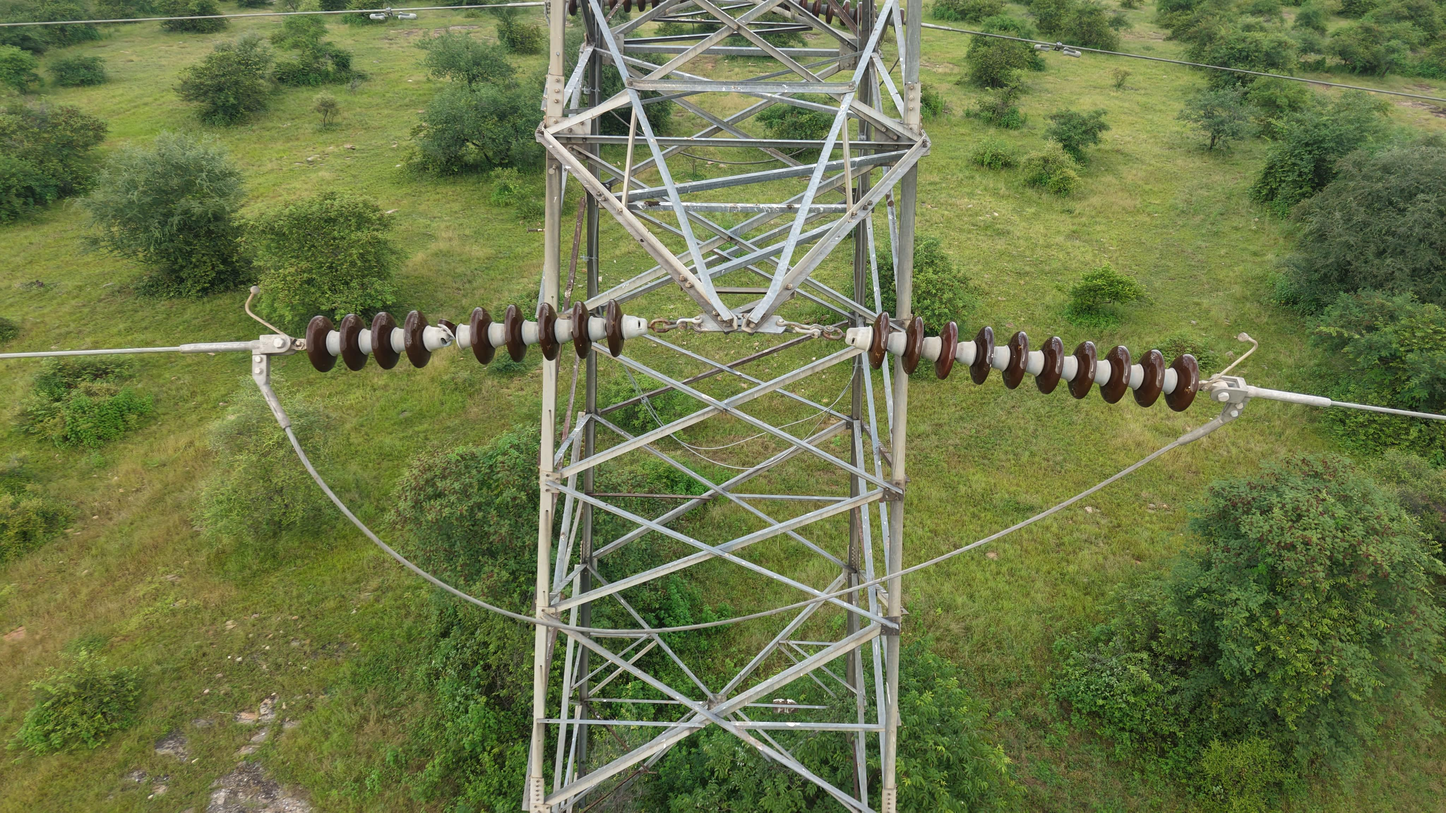broken_insulator: (437, 307, 462, 365)
